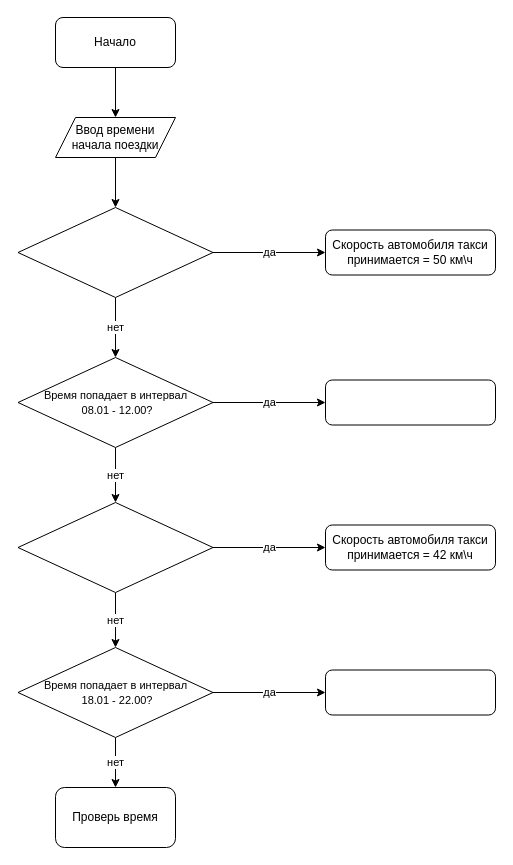
Image size: 513x865. Some labels were removed from this diagram. Here are the shapes that lost their labels. From the top down, the centre of each, then its label:
(x=115, y=252): Время попадает в интервал 22.01 - 08.00?
(x=410, y=402): Скорость автомобиля такси принимается = 35 км\ч
(x=115, y=547): Время попадает в интервал 12.01 - 18.00?
(x=410, y=692): Скорость автомобиля такси принимается = 30 км\ч
